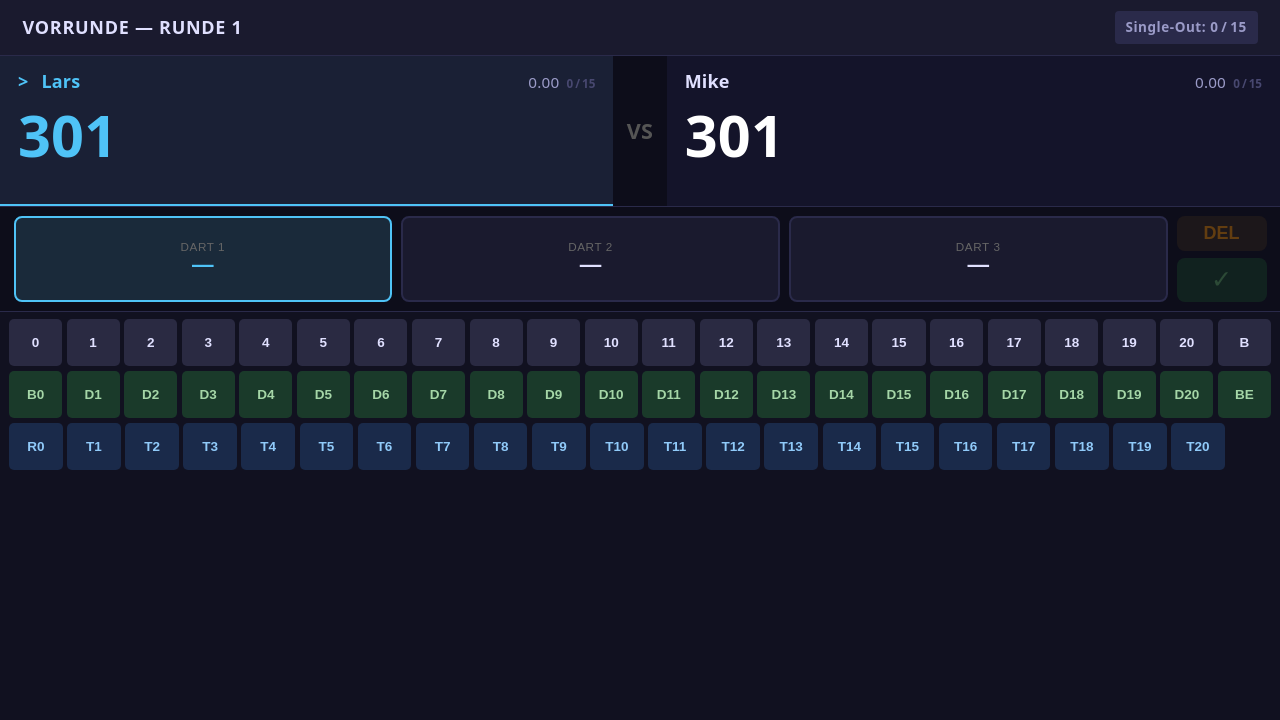
Test: ScoreEntryScreen › shows match finished overlay when recordVisit returns match_finished=true
Expected: the button "DEL" is shown, [1176,216,1266,251]
Click the button "T20": (1198, 446) [1171,423,1225,470]
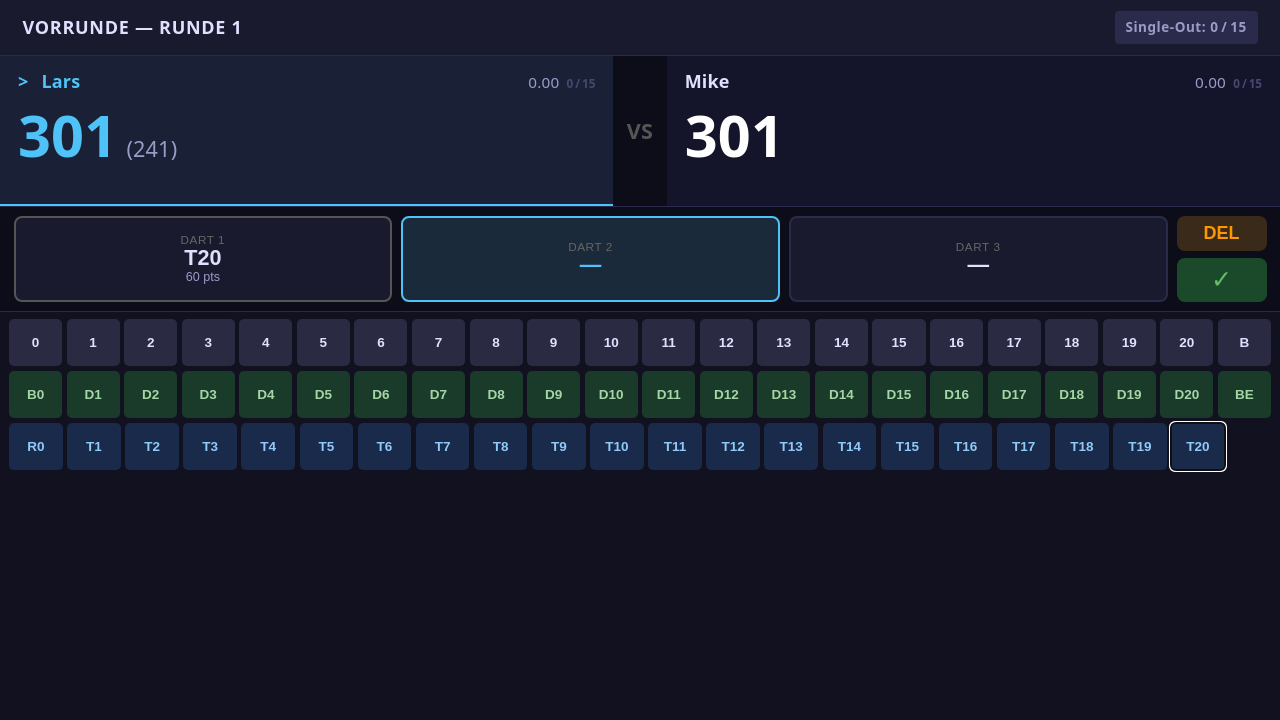
Click the button "✓": (1222, 280) [1176,258,1266,302]
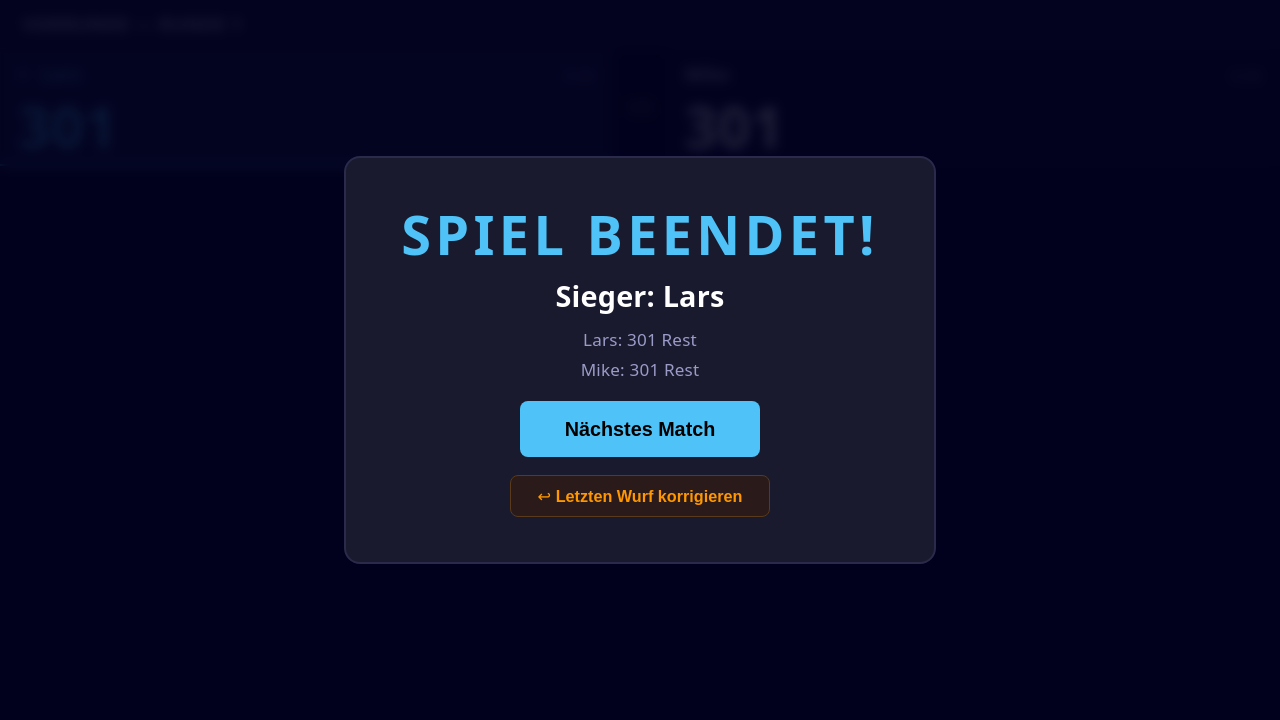
Expected: the dialog is shown
Expected: the dialog shows "Spiel beendet!", [401,197,879,271]
Expected: the dialog shows "Sieger: Lars"
